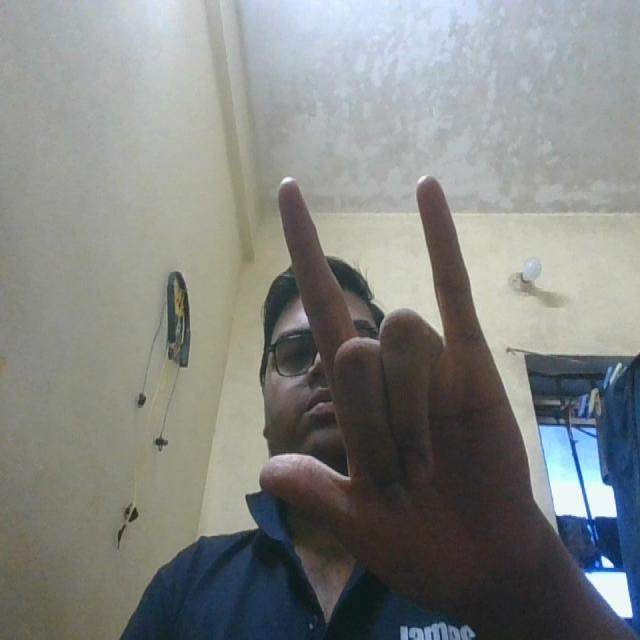iloveyou: (227, 151, 551, 604)
